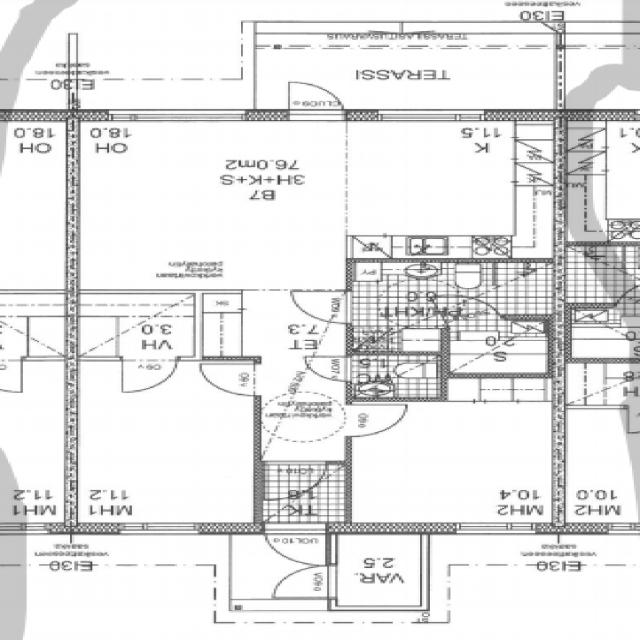door: (116, 359, 261, 397), (347, 352, 444, 400), (261, 524, 331, 566), (195, 359, 262, 399), (284, 78, 348, 117), (269, 563, 336, 600), (346, 402, 414, 438), (116, 356, 180, 394), (288, 289, 352, 325), (302, 354, 353, 382), (459, 298, 503, 319)
window: (100, 108, 247, 126), (365, 108, 497, 125), (449, 520, 545, 538), (114, 520, 208, 538), (57, 28, 89, 70), (61, 1, 86, 34), (604, 522, 640, 536), (19, 524, 54, 537)
zone: (68, 353, 260, 526), (346, 384, 565, 530), (342, 120, 546, 258), (346, 260, 556, 324), (557, 406, 640, 527), (332, 533, 428, 610), (258, 461, 352, 524), (442, 324, 554, 375), (560, 242, 640, 305), (348, 352, 444, 400), (570, 360, 633, 409), (566, 325, 640, 362)
